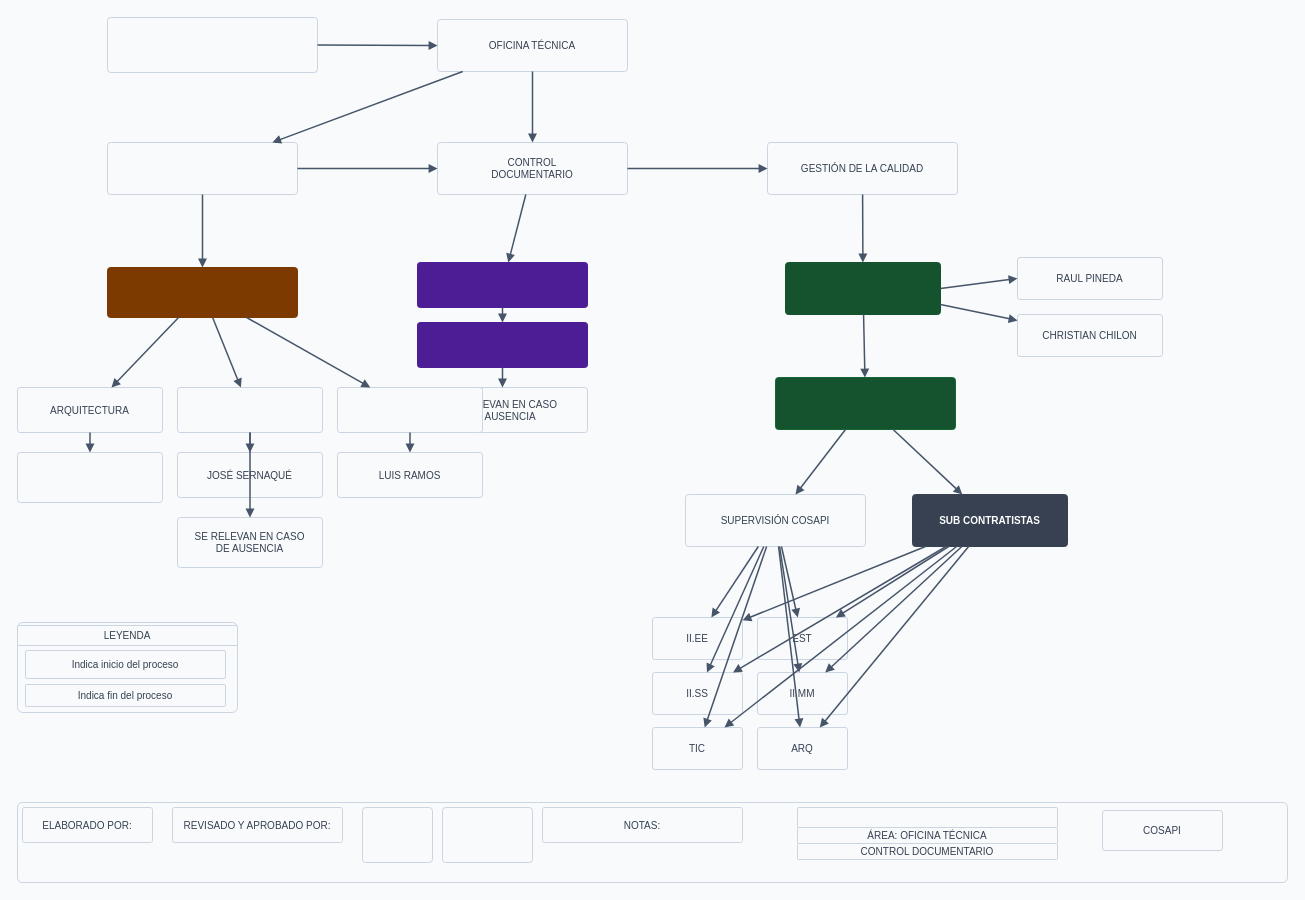
This 1305x900 diagram has some shape labels left out. Here are the shapes that lost their labels. From the top down, the box of each, then its label:
(106, 16, 318, 72): VER FLUJOGRAMA DE ELABORACIÓN DE SKETCH
(106, 142, 298, 194): RESPONSABLE DE PLOTEO
(106, 266, 298, 318): POR ESPECIALIDAD
(416, 262, 588, 308): SHEILA RODRIGUEZ
(784, 262, 940, 314): PRODUCCIÓN
(416, 322, 588, 368): BEATRIZ MEZA
(176, 386, 322, 432): INSTALACIONES
(336, 386, 482, 432): ESTRUCTURAS
(774, 376, 956, 430): DISTRIBUCIÓN EN CAMPO
(16, 452, 162, 502): 1. RAQUEL BUITRÓN 2. PAMELA CÓRDOVA
(362, 806, 432, 862): REVISIÓN: 0 1
(442, 806, 532, 862): FECHA: 2021 1/05/2022
(796, 806, 1058, 828): HOSPITAL LLATA - HUÁNUCO
